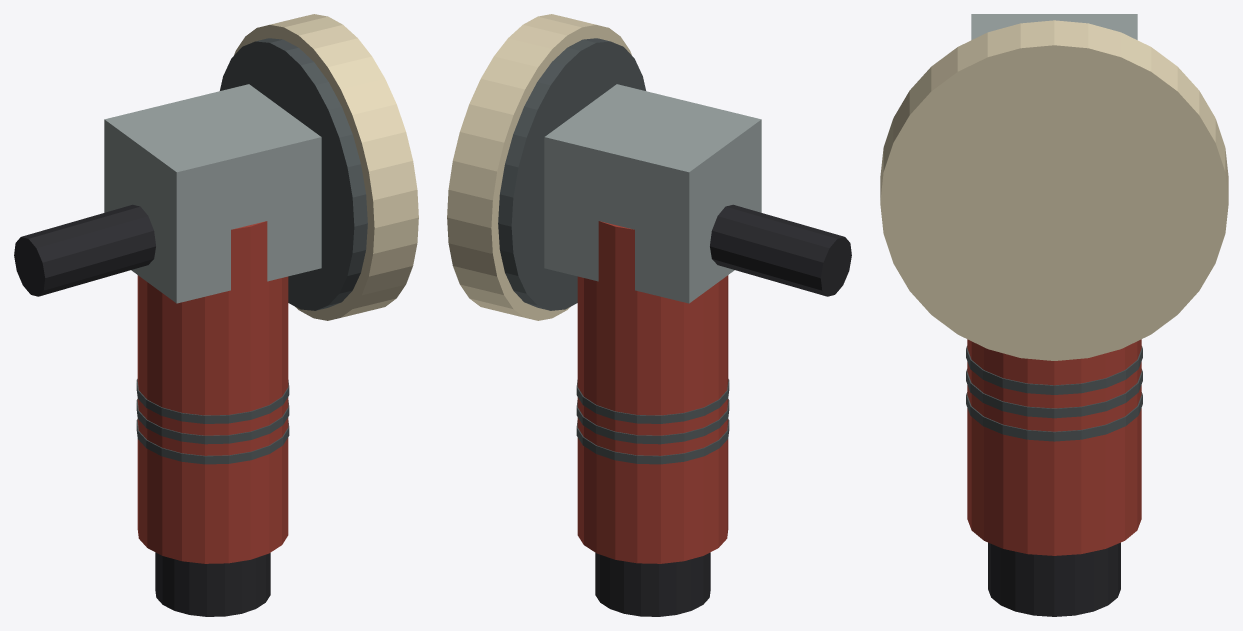
The model's file is TOOL_Buffer.glb.
3 renders of one model, left to right at view 1: azimuth 30°, elevation 25°; view 2: azimuth 150°, elevation 25°; view 3: azimuth 270°, elevation 25°, orthographic. The views are drawn at different scales.
Parts seen in each view (by area): view 1: Motor, Gearcase, PolishingPad, BackingDisc, SideGrip, Grip, VentBands; view 2: Motor, Gearcase, PolishingPad, BackingDisc, SideGrip, Grip, VentBands; view 3: PolishingPad, Motor, Grip, VentBands, Gearcase.
Boxes of the visible parts, x1,y1,x2,y2 form: Motor: (137, 221, 288, 563); Gearcase: (104, 84, 321, 303); PolishingPad: (234, 14, 418, 320); BackingDisc: (220, 38, 367, 310); SideGrip: (14, 204, 155, 296); Grip: (155, 552, 270, 616); VentBands: (136, 379, 289, 464); Motor: (577, 221, 728, 563); Gearcase: (544, 84, 761, 303); PolishingPad: (447, 14, 631, 320); BackingDisc: (498, 38, 645, 310); SideGrip: (710, 204, 851, 296); Grip: (595, 552, 710, 616); VentBands: (576, 379, 729, 464); PolishingPad: (880, 20, 1228, 360); Motor: (967, 339, 1141, 555); Grip: (988, 542, 1120, 616); VentBands: (966, 346, 1142, 441); Gearcase: (971, 14, 1137, 39).
Size of the model in its own units: 0.1631 by 0.2655 by 0.136.
